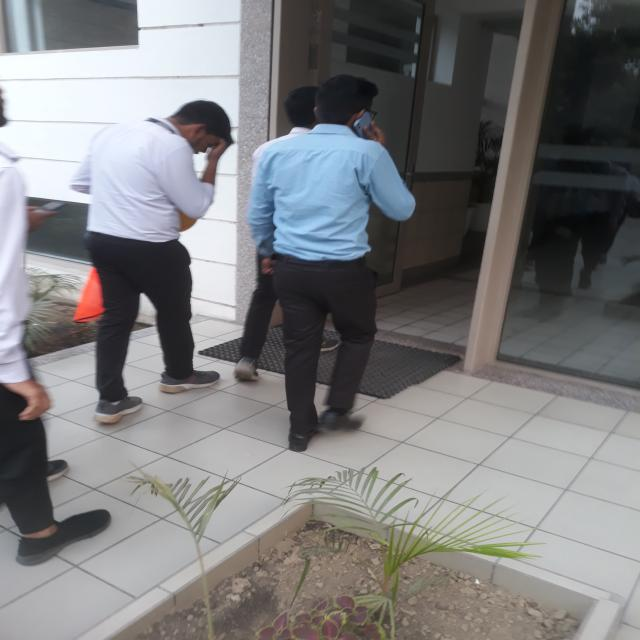unsafe: (253, 73, 416, 449), (67, 99, 236, 425)
